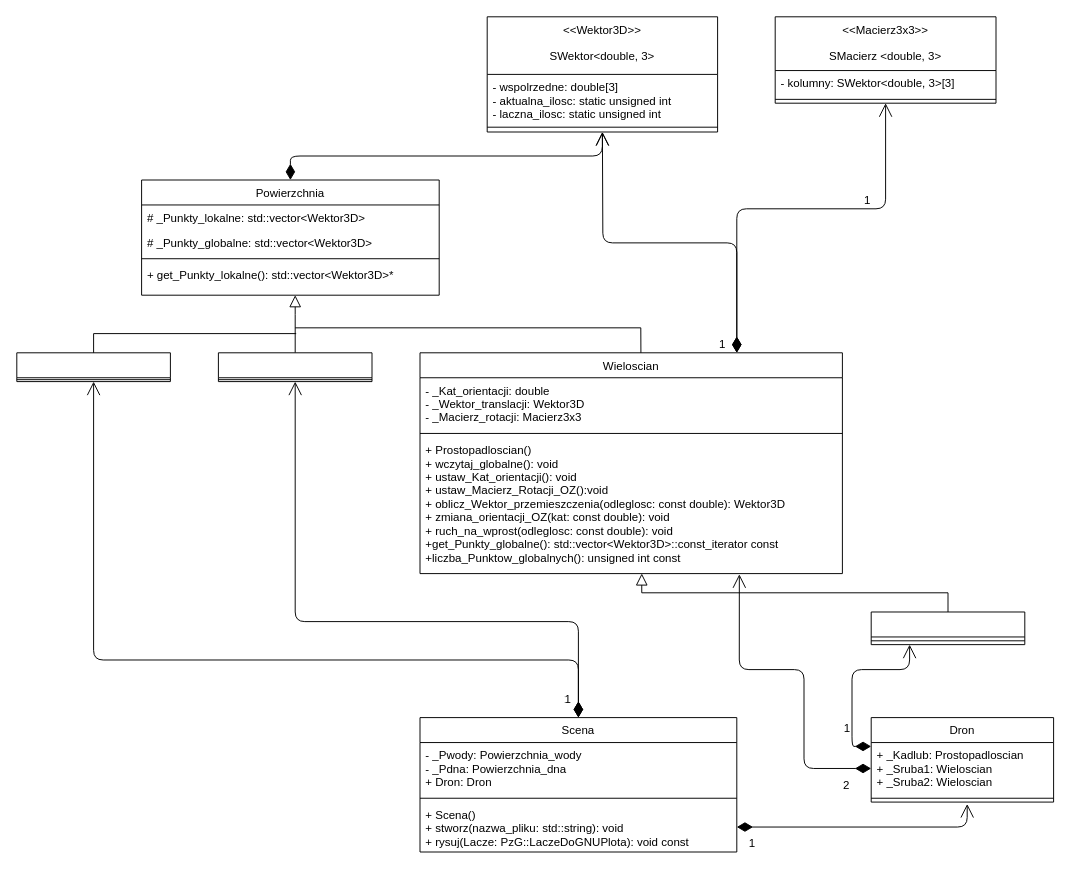
The diagram is 1070 pixels wide and 872 high, and some of its shapes have lost their labels. The shapes that lost their labels are listed below. From the top down, each one's centre as x and y in pixels, then its label:
At (x=93, y=367): "Powierzchnia_wody".
At (x=294, y=367): "Powierzchnia_dna".
At (x=947, y=628): "Prostopadloscian".
